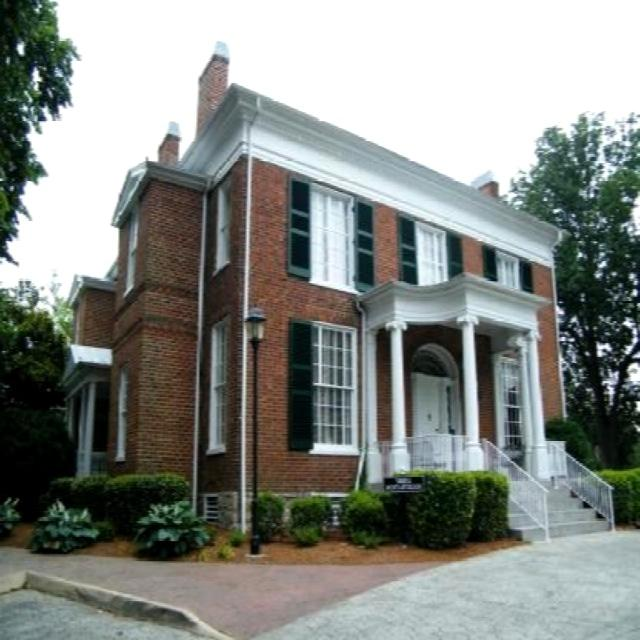stair: (506, 478, 609, 544)
